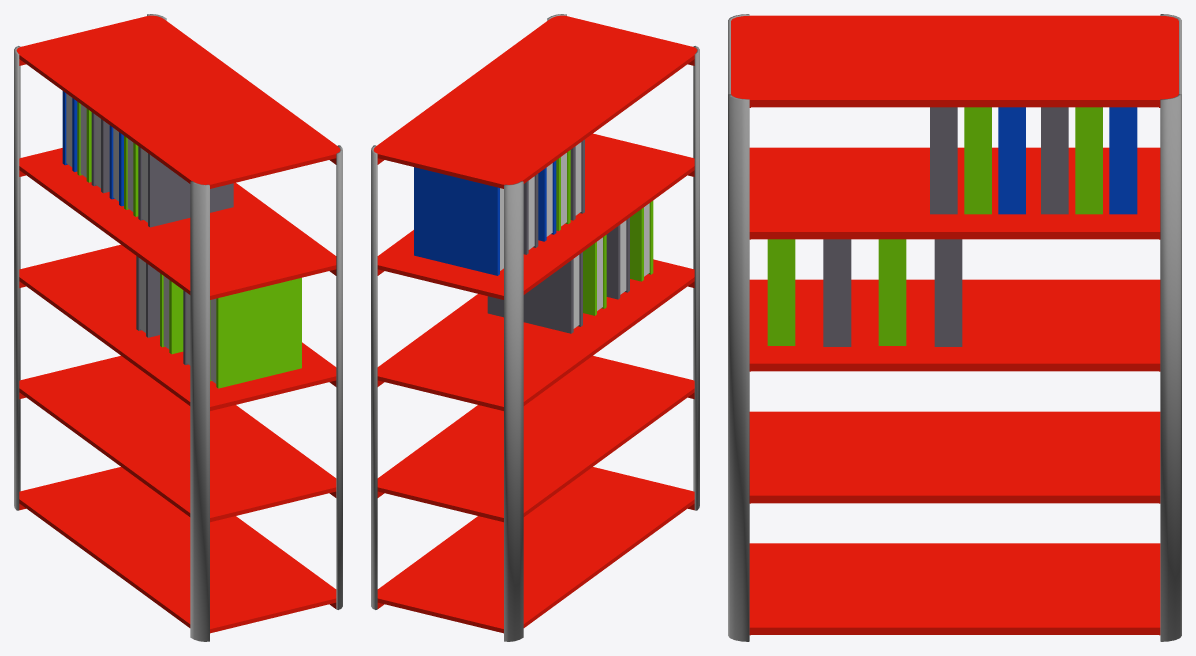
Rendered from Shelves.glb.
3 views of the same model, side by side, from view 1: azimuth 30°, elevation 25°; view 2: azimuth 150°, elevation 25°; view 3: azimuth 270°, elevation 25° (orthographic). The views are drawn at different scales.
Visible parts, largest first — view 1: Cube, Cube.001, AnimBook1, Book3, Book1, Book2, AnimBook4, AnimBook3, AnimBook2; view 2: Cube, Cube.001, Book1, AnimBook4, Book3, AnimBook2, AnimBook1, AnimBook3, Book2; view 3: Cube, Cube.001, Book1, Book2, Book3, AnimBook2, AnimBook4, AnimBook1, AnimBook3.
Boxes of the visible parts, bbox=[...] form: Cube: bbox=[16, 15, 340, 633]; Cube.001: bbox=[14, 14, 342, 641]; AnimBook1: bbox=[210, 277, 301, 388]; Book3: bbox=[91, 112, 233, 227]; Book1: bbox=[62, 91, 123, 206]; Book2: bbox=[77, 102, 138, 216]; AnimBook4: bbox=[136, 256, 159, 337]; AnimBook3: bbox=[160, 273, 183, 354]; AnimBook2: bbox=[183, 290, 190, 365]; Cube: bbox=[373, 15, 697, 633]; Cube.001: bbox=[371, 14, 699, 641]; Book1: bbox=[414, 160, 556, 275]; AnimBook4: bbox=[487, 252, 582, 333]; Book3: bbox=[523, 139, 584, 254]; AnimBook2: bbox=[606, 217, 629, 299]; AnimBook1: bbox=[630, 201, 653, 281]; AnimBook3: bbox=[583, 235, 606, 315]; Book2: bbox=[556, 150, 570, 230]; Cube: bbox=[731, 15, 1178, 635]; Cube.001: bbox=[728, 14, 1181, 641]; Book1: bbox=[998, 107, 1137, 214]; Book2: bbox=[964, 107, 1102, 214]; Book3: bbox=[930, 107, 1068, 214]; AnimBook2: bbox=[823, 239, 851, 346]; AnimBook4: bbox=[934, 239, 962, 346]; AnimBook1: bbox=[767, 239, 795, 345]; AnimBook3: bbox=[878, 239, 906, 345].
Size of the model in its own units: 2.06 by 6 by 4.56.
